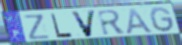A: (126, 8, 155, 35)
G: (148, 6, 176, 34)
L: (50, 12, 74, 39)
R: (96, 9, 128, 37)
V: (70, 10, 98, 39)
Z: (22, 13, 52, 41)
